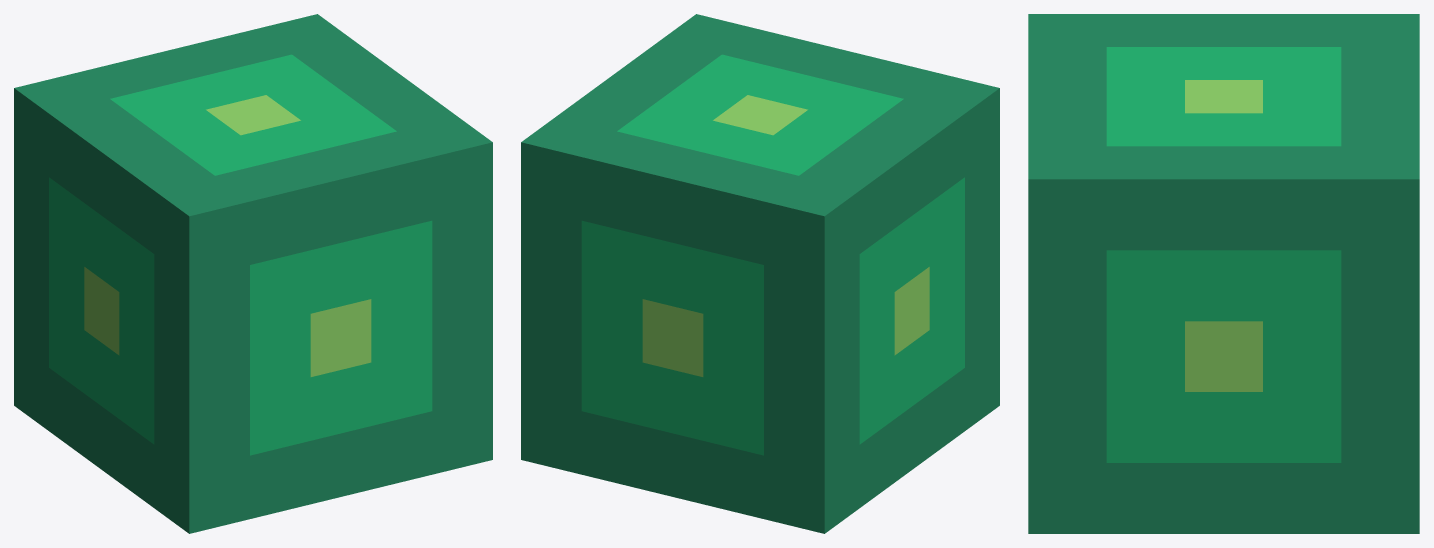
The model's file is leaf.obj.
3 renders of one model, left to right at view 1: azimuth 30°, elevation 25°; view 2: azimuth 150°, elevation 25°; view 3: azimuth 270°, elevation 25°, orthographic. The views are drawn at different scales.
Bounding box in the file's own units: 0.5 × 0.5 × 0.5.
Materials: 1 (1 with a texture image).
